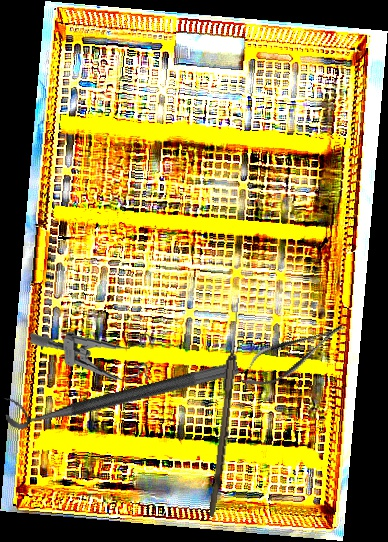Fixation Ring: (1, 340, 240, 434)
Micro Scissor: (233, 311, 353, 397)
Speculum: (30, 324, 159, 389)
Surgical Spoon: (209, 297, 243, 518)
